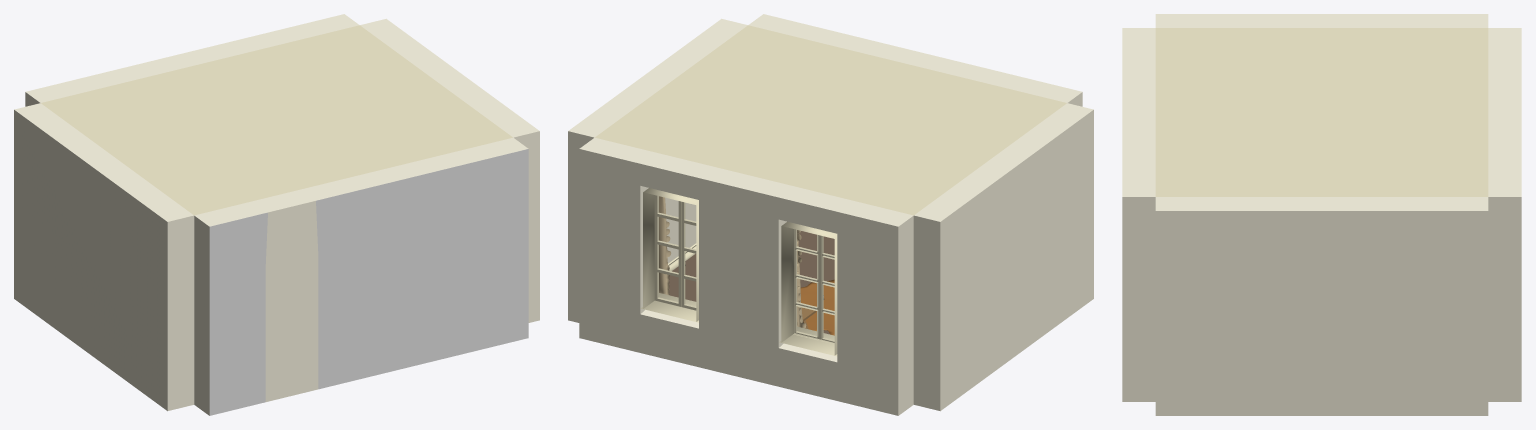
File: AFRAME_TRIAL.glb
3 views of the same model, side by side, from view 1: azimuth 30°, elevation 25°; view 2: azimuth 150°, elevation 25°; view 3: azimuth 270°, elevation 25° (orthographic). The views are drawn at different scales.
Parts seen in each view (by area): view 1: Floor; view 2: Floor; view 3: Floor.
Part boxes in pixels (bbox=[...]): Floor: bbox=[14, 14, 539, 415]; Floor: bbox=[568, 14, 1093, 415]; Floor: bbox=[1122, 14, 1521, 415].
Size of the model in its own units: 7 by 3.4 by 6.
